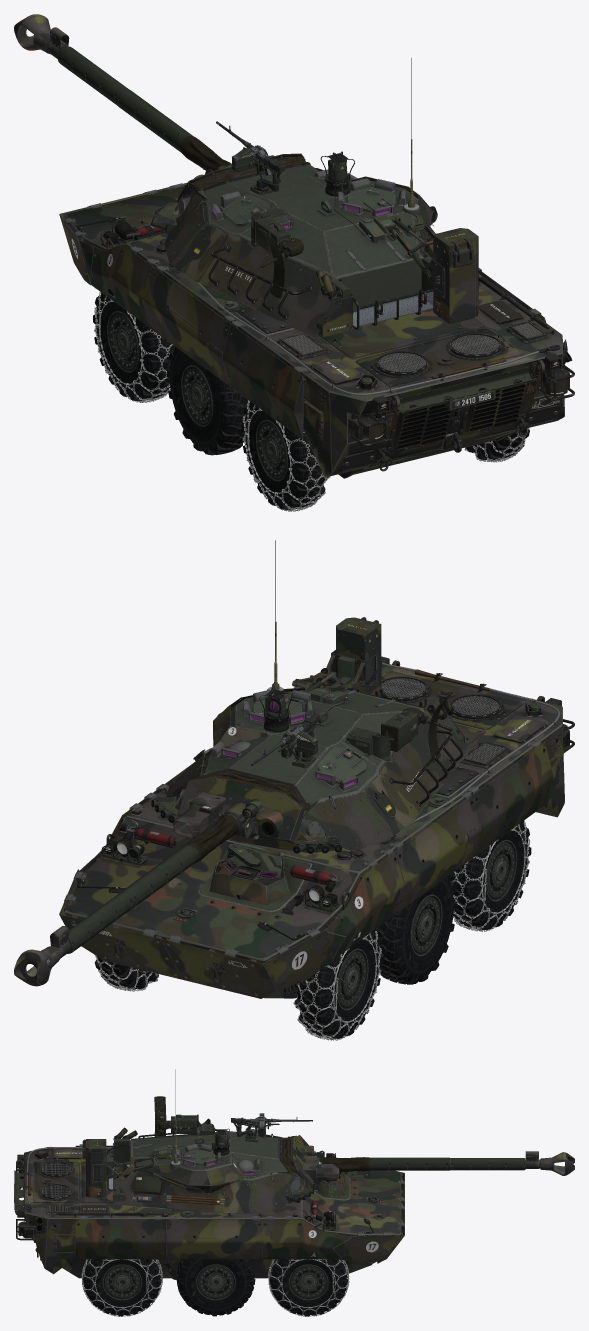
The model's file is amx10rc_sd.glb.
The picture shows the model from 3 angles, top to bottom: view 1: azimuth 30°, elevation 25°; view 2: azimuth 150°, elevation 25°; view 3: azimuth 270°, elevation 25°; orthographic projection. The views are drawn at different scales.
Visible parts, largest first — view 1: base hull, engine cover, wheel Left, base turret, hull armor, turret armor, hull customization, missile launchers, turret customization, gun customization, radar, base gun (+6 smaller); view 2: base hull, hull armor, wheel Left, base turret, turret armor, hull customization, engine cover, base gun, gun customization, missile launchers, gun armor, radar (+7 smaller); view 3: hull armor, wheel right, base hull, turret armor, base turret, engine cover, gun customization, hull customization, missile launchers, base gun, turret customization, radar (+5 smaller).
Part boxes in pixels (x1,y1,x2,y2): base hull: (64,185,572,478); engine cover: (276,300,574,453); wheel Left: (93,289,330,511); base turret: (178,151,428,314); hull armor: (59,182,546,440); turret armor: (164,167,434,338); hull customization: (77,198,563,471); missile launchers: (373,215,478,324); turret customization: (149,166,433,337); gun customization: (50,34,231,170); radar: (251,207,303,298); base gun: (14,14,274,198); base hull: (64,660,564,998); hull armor: (59,687,559,998); wheel Left: (293,820,531,1040); base turret: (178,687,424,837); turret armor: (166,686,471,851); hull customization: (77,656,561,982); engine cover: (381,670,574,768); base gun: (14,777,302,986); gun customization: (59,806,248,953); missile launchers: (292,617,381,701); gun armor: (177,777,304,843); radar: (345,690,454,762); hull armor: (54,1144,404,1263); wheel right: (81,1252,349,1316); base hull: (16,1147,401,1279); turret armor: (114,1131,306,1213); base turret: (130,1127,301,1191); engine cover: (16,1148,114,1243); gun customization: (319,1156,533,1171); hull customization: (14,1147,380,1257); missile launchers: (82,1139,172,1197); base gun: (293,1136,574,1187); turret customization: (107,1127,314,1203); radar: (154,1096,214,1136).
Size of the model in its own units: 3.12 by 4.31 by 9.29.
28 materials, 27 textured.
